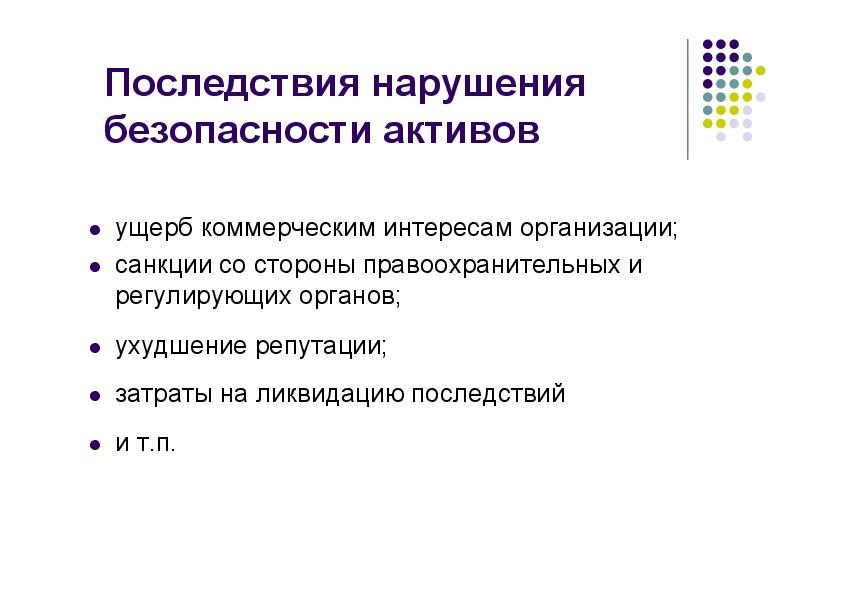paragraph: (111, 203, 710, 502)
title: (81, 49, 606, 157)
